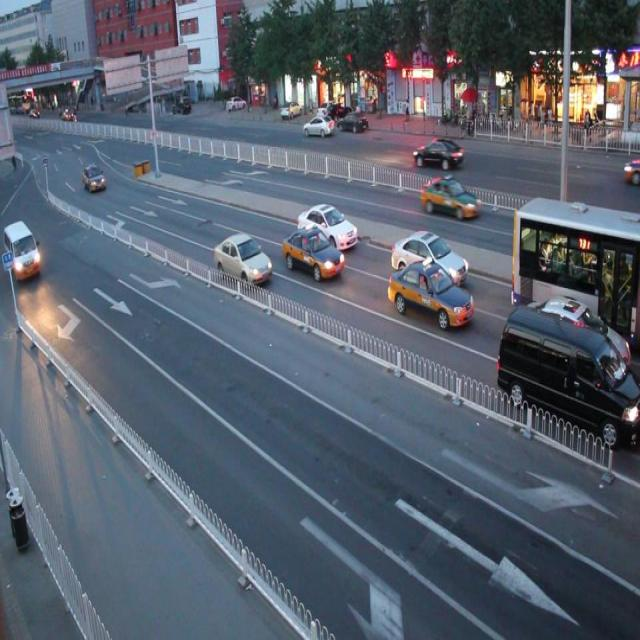car: (516, 294, 628, 391), (388, 260, 474, 330), (390, 228, 467, 283), (282, 226, 344, 279), (213, 232, 271, 286), (297, 203, 357, 251), (420, 174, 481, 218), (412, 136, 464, 170)
truck: (496, 300, 640, 446)
van: (510, 193, 640, 350)
